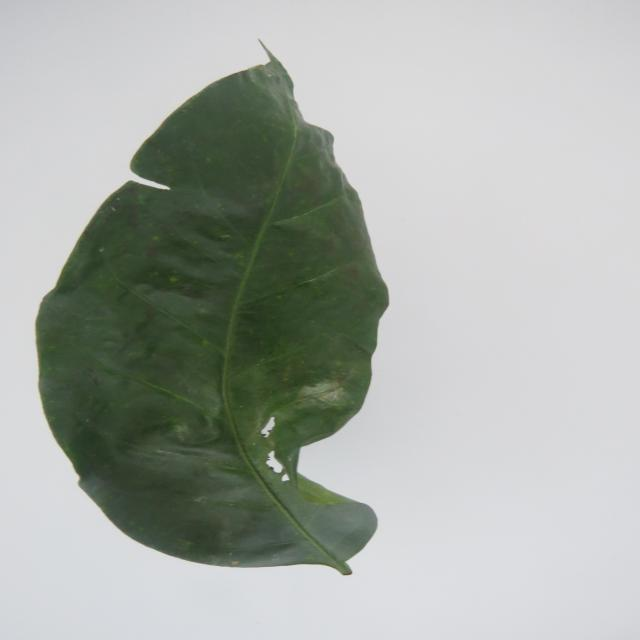DeficienciaNutricional-Calcio: (37, 55, 388, 575)
